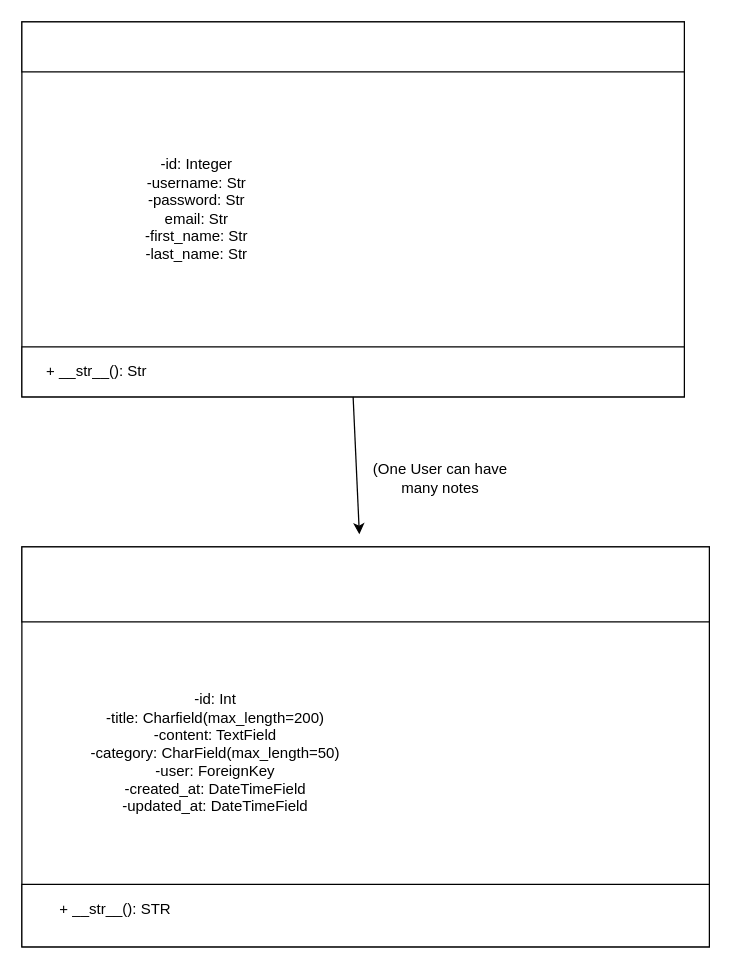
Image size: 731x969. Some labels were removed from this diagram. The shapes that lost their labels are listed below. From the top down, each one's centre as x and y in pixels, then its label:
At (352,46): "User".
At (365,584): "Note".
